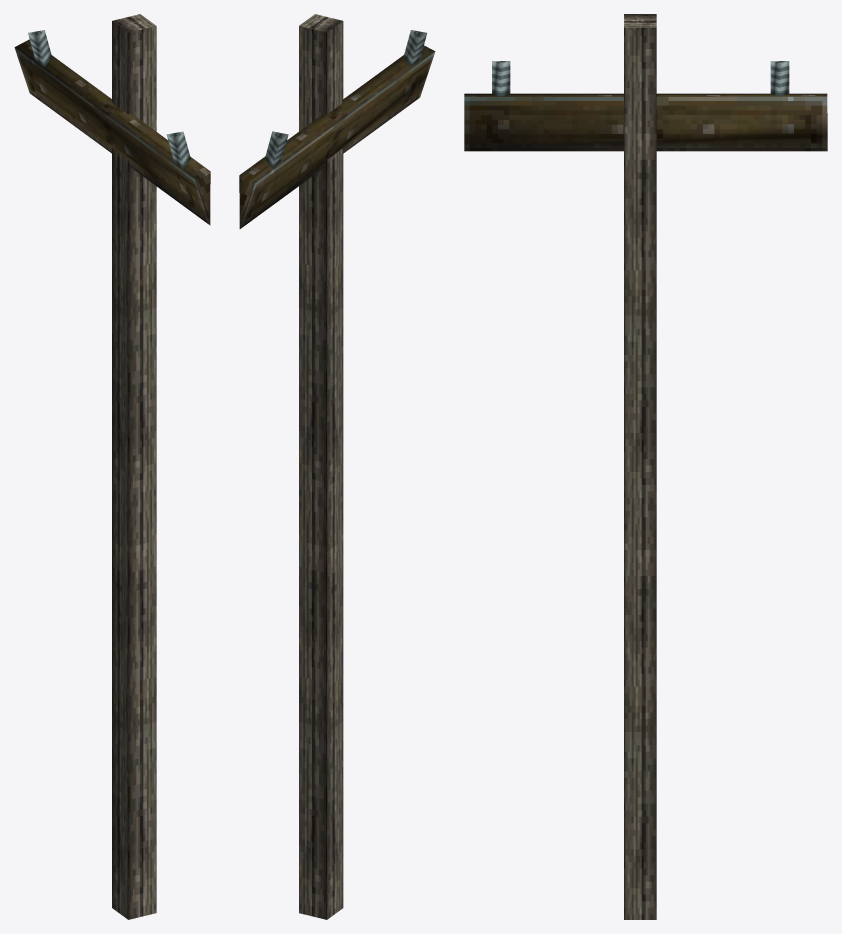
File: Environment - Prop - telpole - PMtelpole.glb
3 renders of one model, left to right at view 1: azimuth 30°, elevation 25°; view 2: azimuth 150°, elevation 25°; view 3: azimuth 270°, elevation 25°, orthographic.
Visible parts, largest first — view 1: PMTELPOLE; view 2: PMTELPOLE; view 3: PMTELPOLE.
Boxes of the visible parts, left/top/right/bottom form: PMTELPOLE: left=14, top=14, right=210, bottom=919; PMTELPOLE: left=239, top=14, right=435, bottom=919; PMTELPOLE: left=464, top=14, right=827, bottom=919.
Size of the model in its own units: 2.47 by 45 by 16.61.
Materials: 1 (1 with a texture image).
